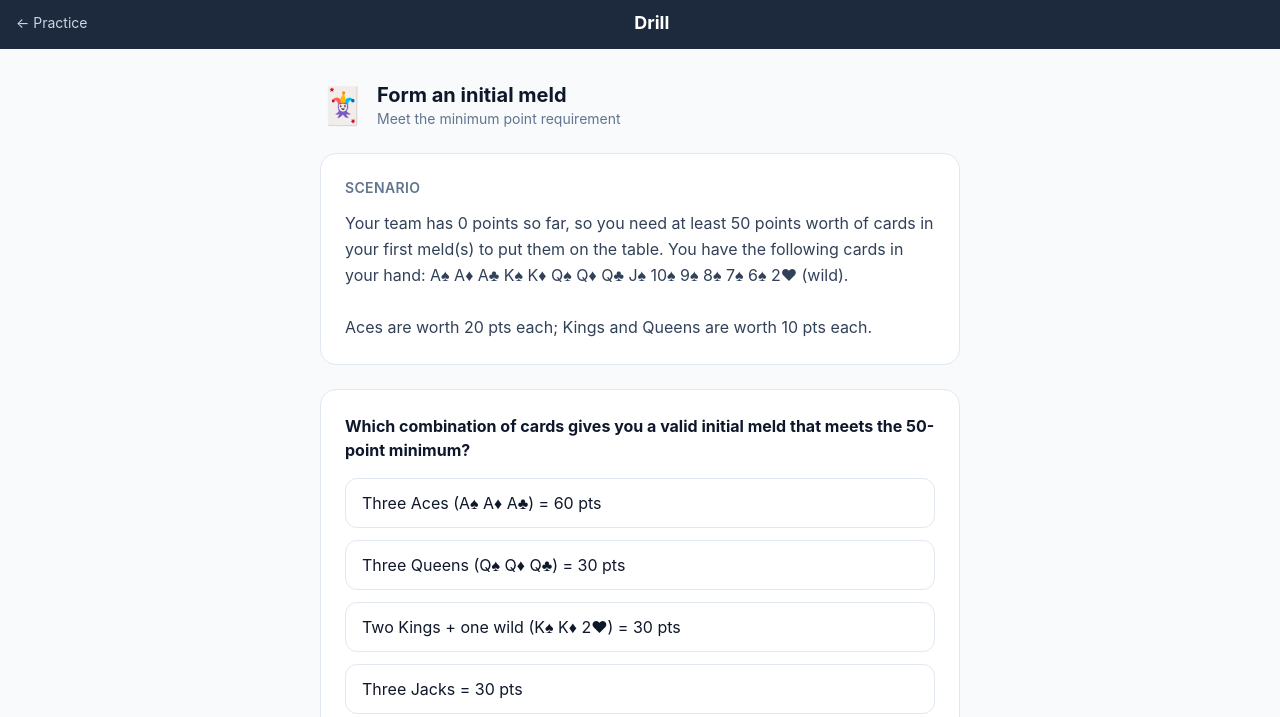
PracticeScenario › shows incorrect feedback when wrong option is selected
Click the button "Three Queens (Q♠ Q♦ Q♣) = 30 pts". click: click(494, 565)
box: [345, 540, 935, 590]
(page scrolled)
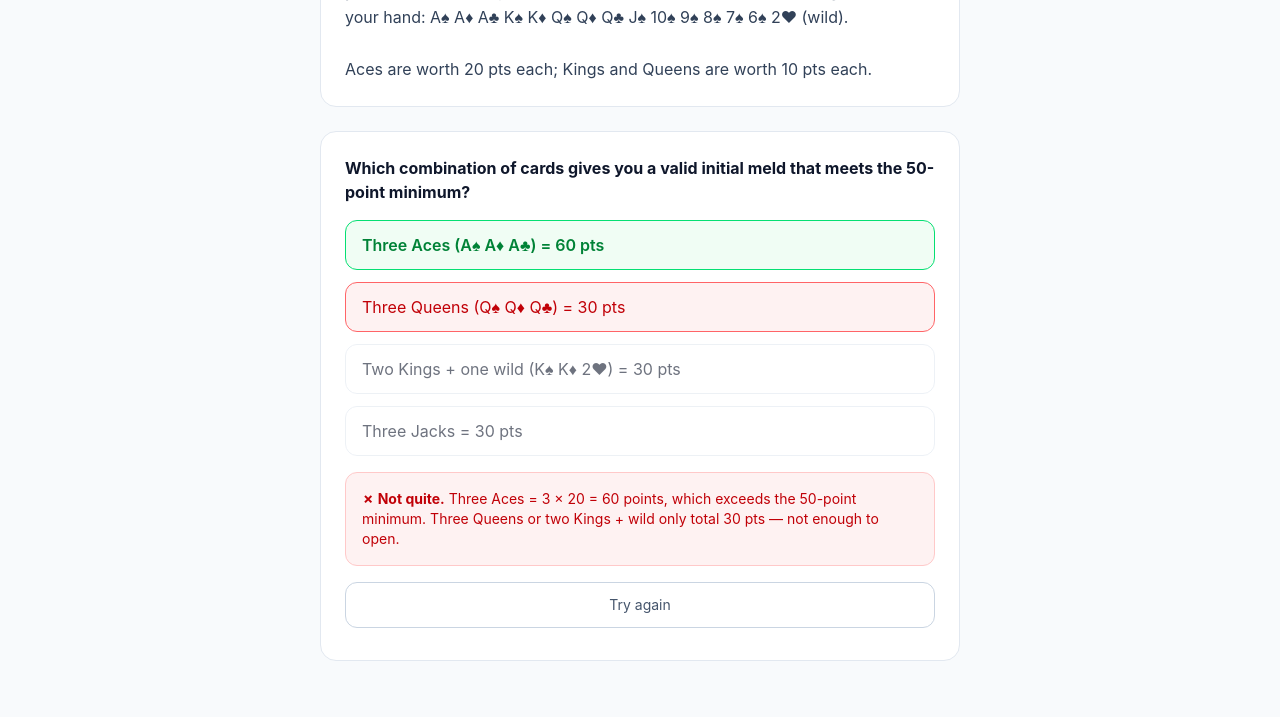
Check: the text "✗ Not quite." is shown, box [362, 490, 445, 507]
